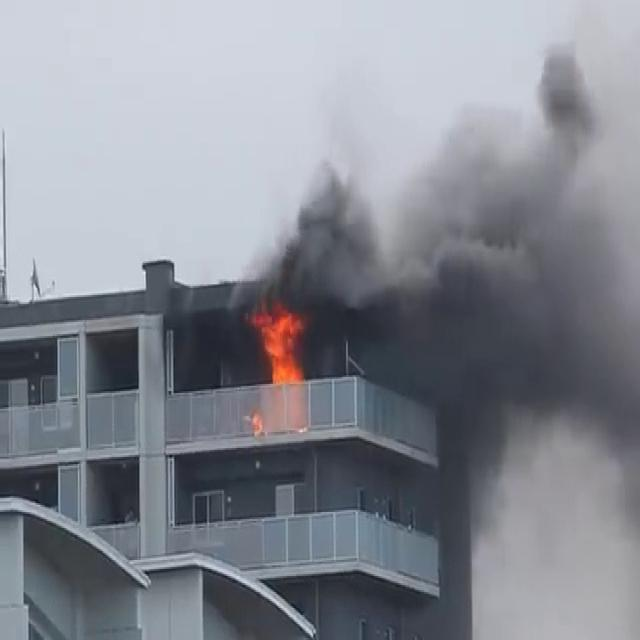Fire: (248, 296, 313, 388)
Smoke: (323, 7, 640, 443)
